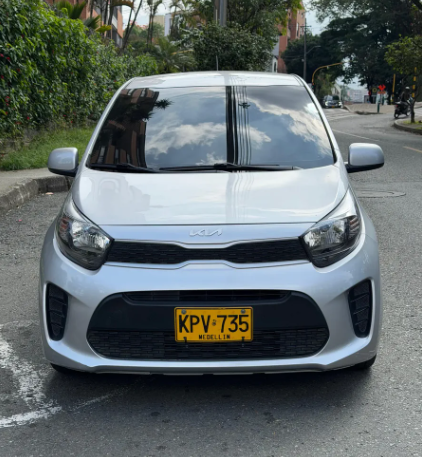placa: (175, 307, 254, 342)
